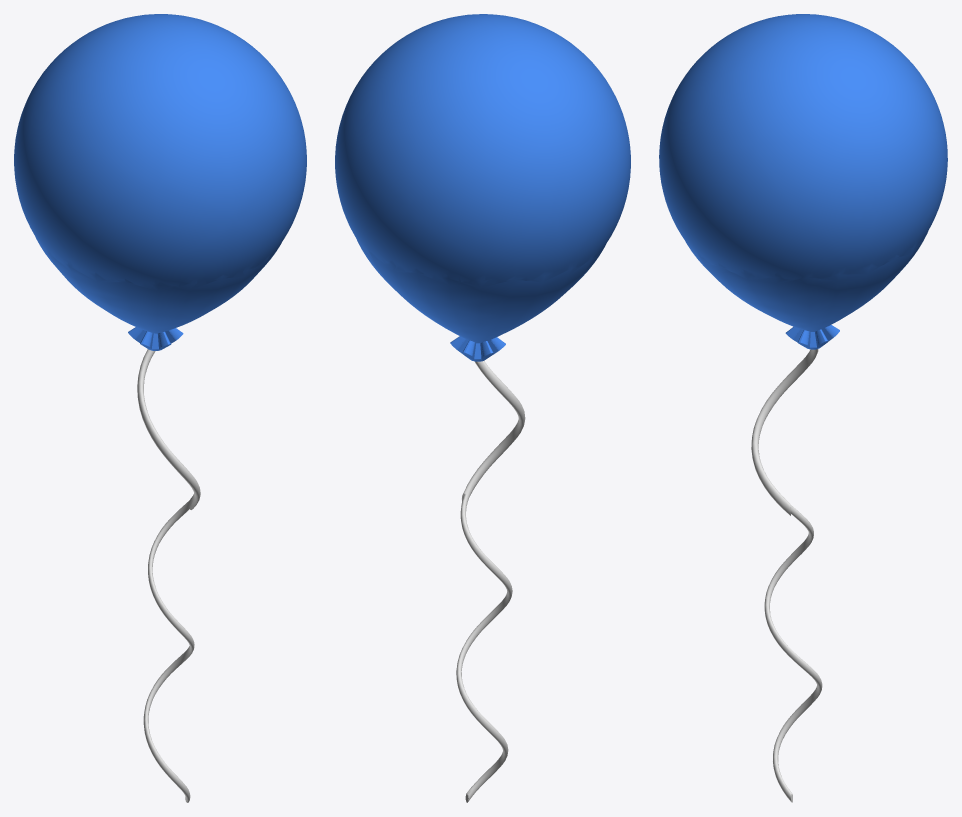
File: balloon-3.glb
3 views of the same model, side by side, from view 1: azimuth 30°, elevation 25°; view 2: azimuth 150°, elevation 25°; view 3: azimuth 270°, elevation 25° (orthographic). The views are drawn at different scales.
Parts seen in each view (by area): view 1: group_0_15277357, group_0_6383466; view 2: group_0_15277357, group_0_6383466; view 3: group_0_15277357, group_0_6383466.
Boxes of the visible parts, bbox=[...] form: group_0_15277357: bbox=[14, 14, 306, 350]; group_0_6383466: bbox=[137, 349, 200, 802]; group_0_15277357: bbox=[335, 14, 630, 361]; group_0_6383466: bbox=[456, 361, 525, 802]; group_0_15277357: bbox=[659, 14, 947, 349]; group_0_6383466: bbox=[751, 349, 822, 802].
Bounding box in the file's own units: 0.6252 × 1.83 × 0.625.
